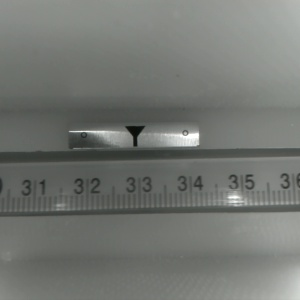0: (0, 178, 2, 197)
1: (38, 179, 45, 195)
2: (89, 178, 100, 193)
3: (20, 179, 31, 196), (279, 172, 290, 189), (227, 174, 238, 190), (125, 177, 136, 193), (177, 175, 187, 191), (73, 178, 83, 194), (142, 177, 152, 192)
4: (193, 176, 203, 191)
5: (244, 174, 254, 189)
6: (295, 172, 300, 189)
finger: (123, 126, 145, 147)
